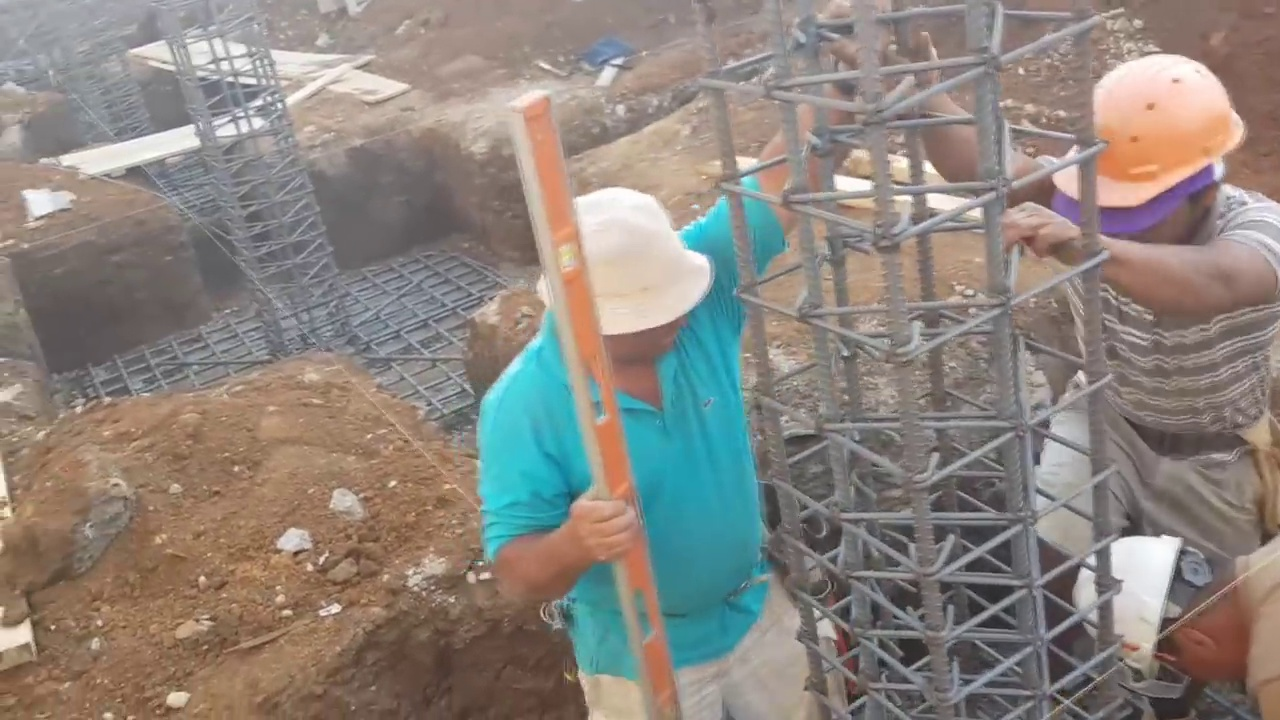helmet: (1053, 48, 1238, 204), (1071, 518, 1185, 678)
helmet-off: (555, 180, 704, 378)
helmet-on: (1040, 48, 1255, 251), (1070, 520, 1257, 689)
person: (467, 14, 878, 715), (890, 0, 1280, 720), (1064, 515, 1280, 712)
